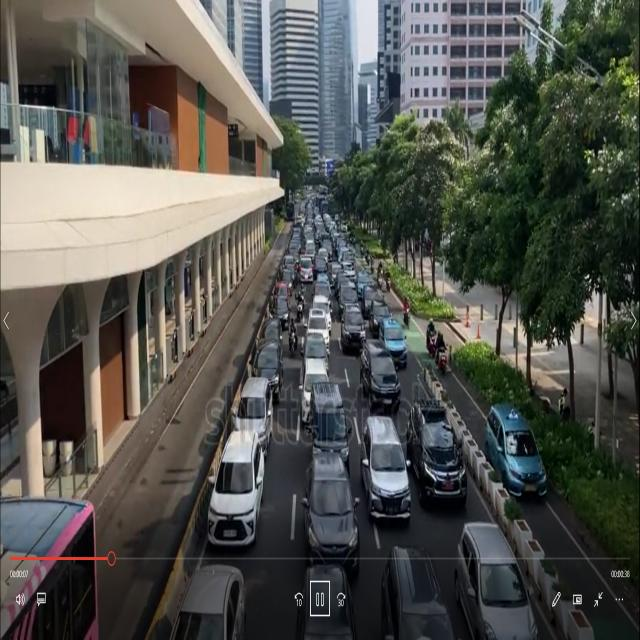Ambulance: (298, 254, 312, 289)
